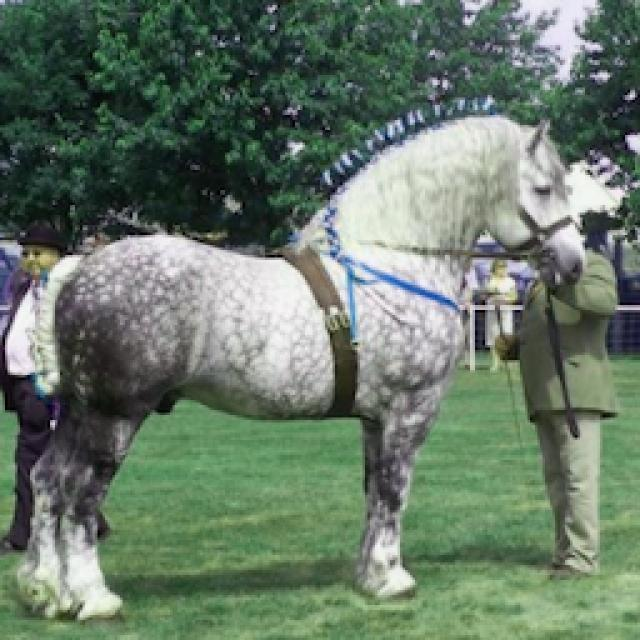Horse: (8, 102, 592, 626)
